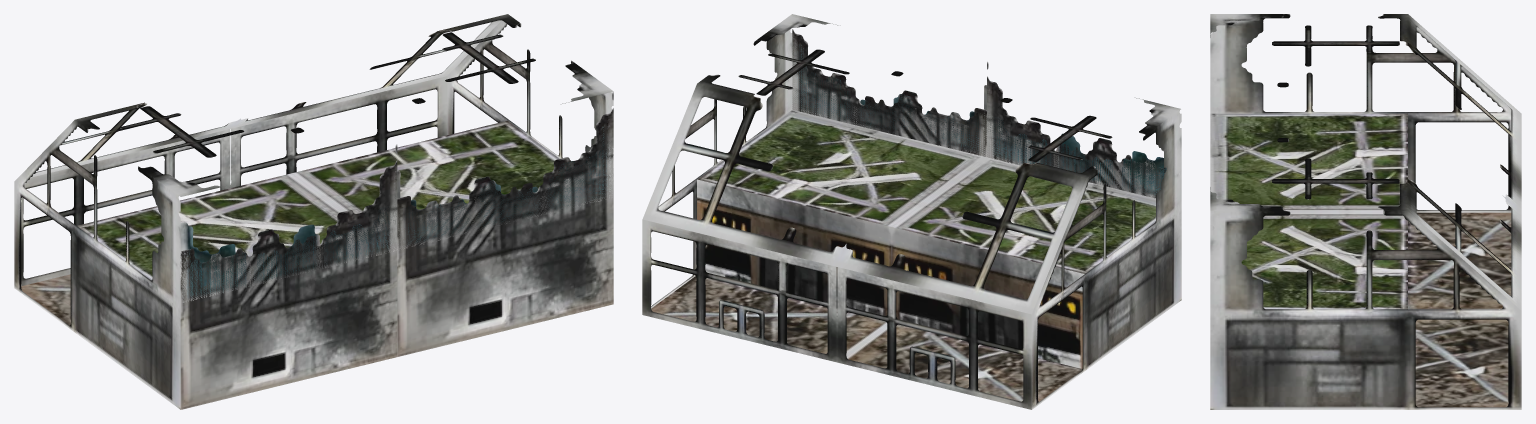
The model's file is lobby_dam_hdtex.glb.
3 views of the same model, side by side, from view 1: azimuth 30°, elevation 25°; view 2: azimuth 150°, elevation 25°; view 3: azimuth 270°, elevation 25° (orthographic). The views are drawn at different scales.
Parts seen in each view (by area): view 1: Lobby; view 2: Lobby; view 3: Lobby.
Part boxes in pixels (<box>): Lobby: <box>14,14,613,409</box>; Lobby: <box>642,14,1181,409</box>; Lobby: <box>1210,14,1521,409</box>.
Size of the model in its own units: 25.51 by 11.98 by 17.
Materials: 1 (1 with a texture image).
